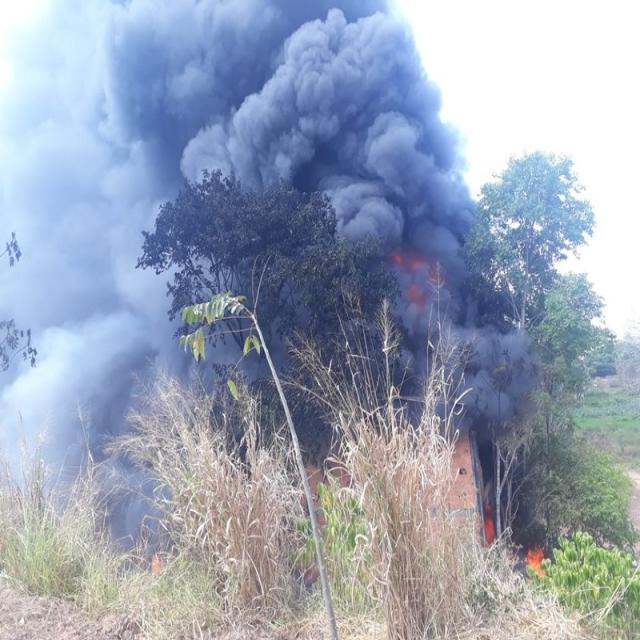Fire: (526, 539, 549, 584), (486, 502, 500, 548)
Smoke: (96, 0, 483, 222), (15, 226, 167, 544), (401, 270, 535, 430)
